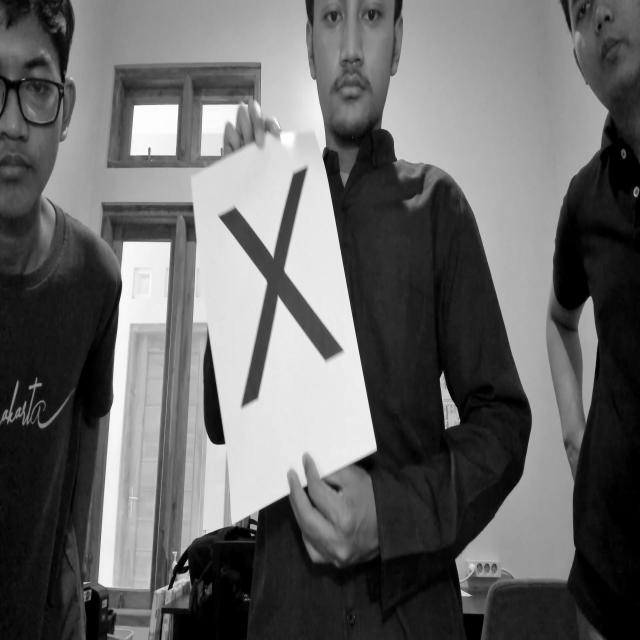x: (210, 164, 354, 418)
